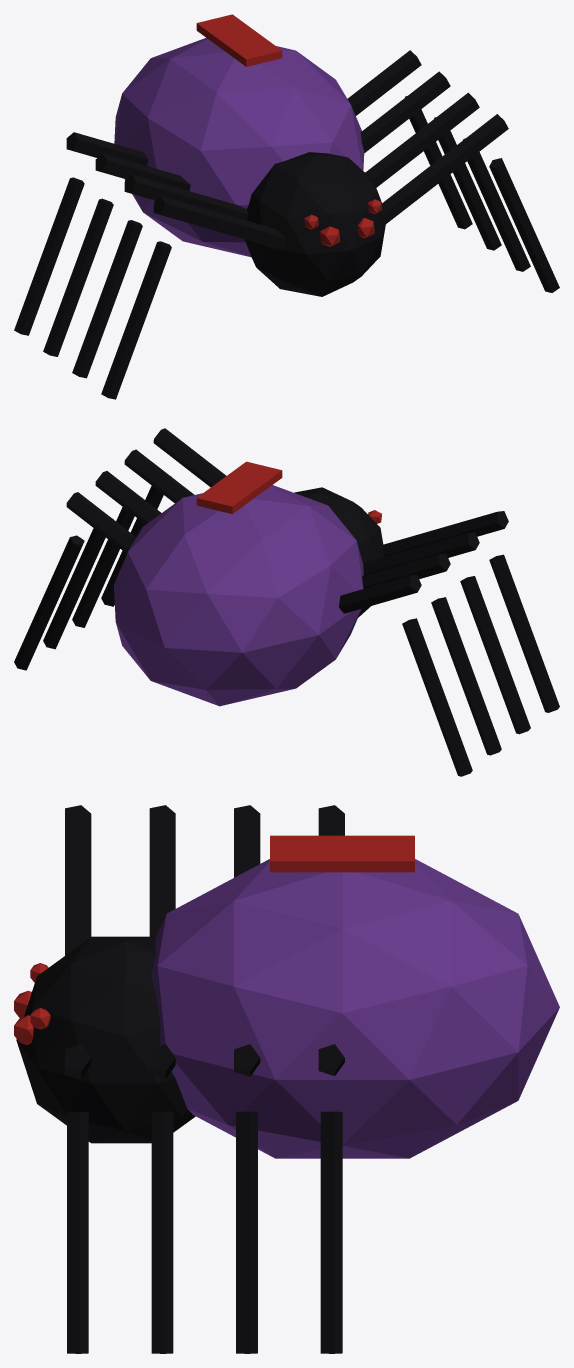
Rendered from SM_GZ_mon_giant_spider.fbx.
The picture shows the model from 3 angles, top to bottom: view 1: azimuth 30°, elevation 25°; view 2: azimuth 150°, elevation 25°; view 3: azimuth 270°, elevation 25°; orthographic projection. The views are drawn at different scales.
Parts seen in each view (by area): view 1: SM_GZ_mon_giant_spider; view 2: SM_GZ_mon_giant_spider; view 3: SM_GZ_mon_giant_spider.
Boxes of the visible parts, x1,y1,x2,y2 form: SM_GZ_mon_giant_spider: (14,14,559,399); SM_GZ_mon_giant_spider: (14,428,559,776); SM_GZ_mon_giant_spider: (14,805,559,1353).
Bounding box in the file's own units: 318 × 160 × 226.
